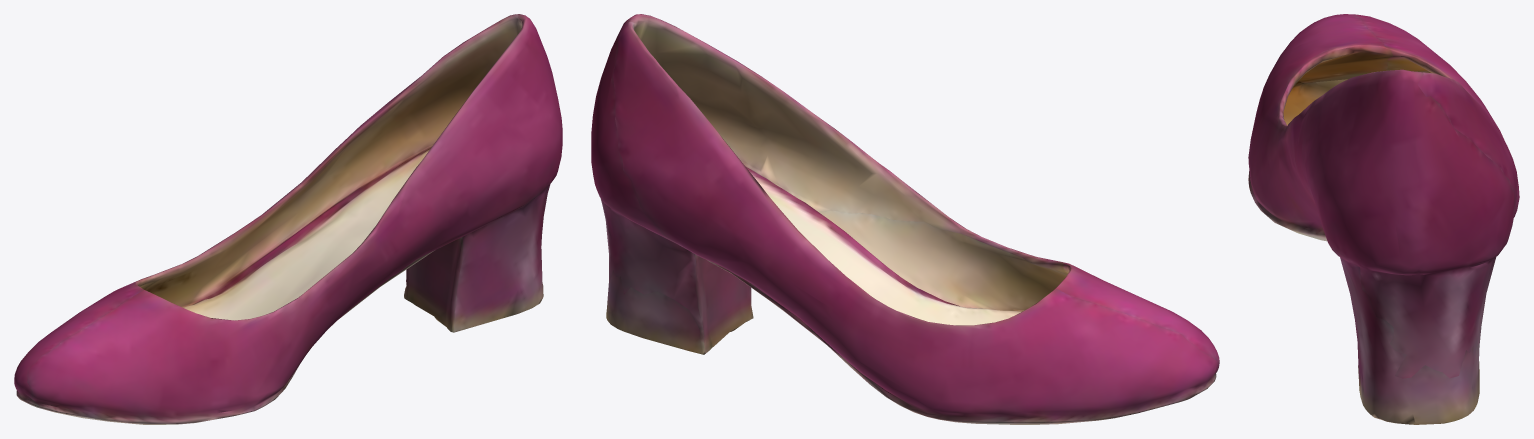
The model's file is Chelsea_lo_fl_rdheel_nQ0LPNF1oMw-high.glb.
The picture shows the model from 3 angles, left to right: view 1: azimuth 30°, elevation 25°; view 2: azimuth 150°, elevation 25°; view 3: azimuth 270°, elevation 25°; orthographic projection. The views are drawn at different scales.
Parts seen in each view (by area): view 1: Chelsea_lo_fl_rdheel_nQ0LPNF1oMw; view 2: Chelsea_lo_fl_rdheel_nQ0LPNF1oMw; view 3: Chelsea_lo_fl_rdheel_nQ0LPNF1oMw.
Part boxes in pixels (box(x1,y1,x2,y2)): Chelsea_lo_fl_rdheel_nQ0LPNF1oMw: box(14, 14, 562, 424); Chelsea_lo_fl_rdheel_nQ0LPNF1oMw: box(591, 14, 1219, 424); Chelsea_lo_fl_rdheel_nQ0LPNF1oMw: box(1248, 14, 1519, 424).
Bounding box in the file's own units: 0.2565 × 0.123 × 0.0864.
1 material, 1 textured.
